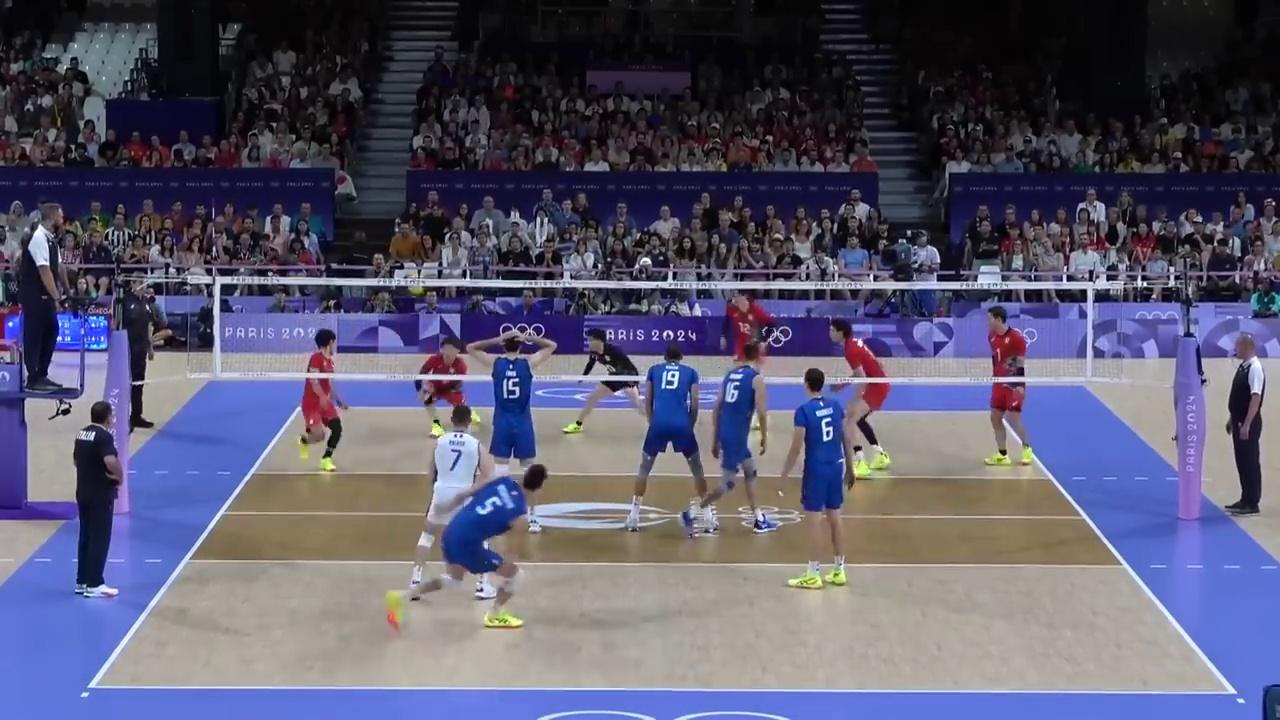ball: (409, 285, 425, 295)
